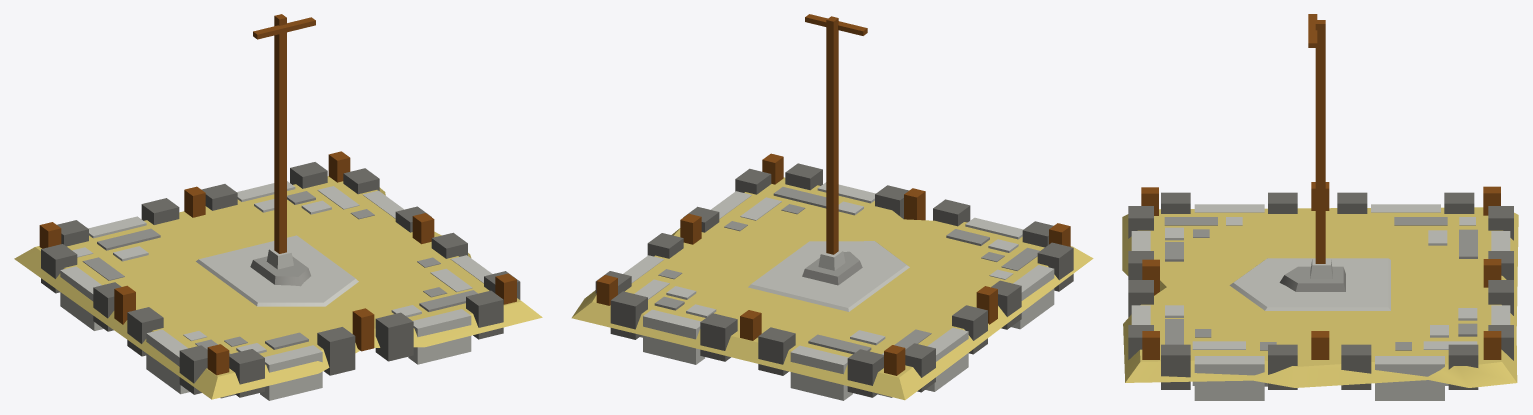
File: townsquare_.fbx
3 views of the same model, side by side, from view 1: azimuth 30°, elevation 25°; view 2: azimuth 150°, elevation 25°; view 3: azimuth 270°, elevation 25° (orthographic). The views are drawn at different scales.
Parts seen in each view (by area): view 1: polySurface141; view 2: polySurface141; view 3: polySurface141.
Part boxes in pixels (x1=…): polySurface141: x1=14, y1=14, x2=542, y2=400; polySurface141: x1=571, y1=14, x2=1093, y2=400; polySurface141: x1=1122, y1=14, x2=1518, y2=400.
Size of the model in its own units: 228 by 184 by 220.
1 material, 1 textured.
